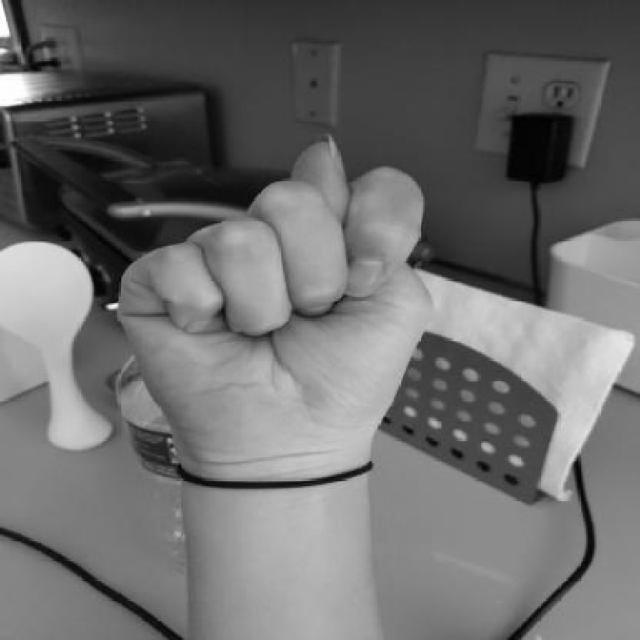T: (108, 128, 447, 477)
